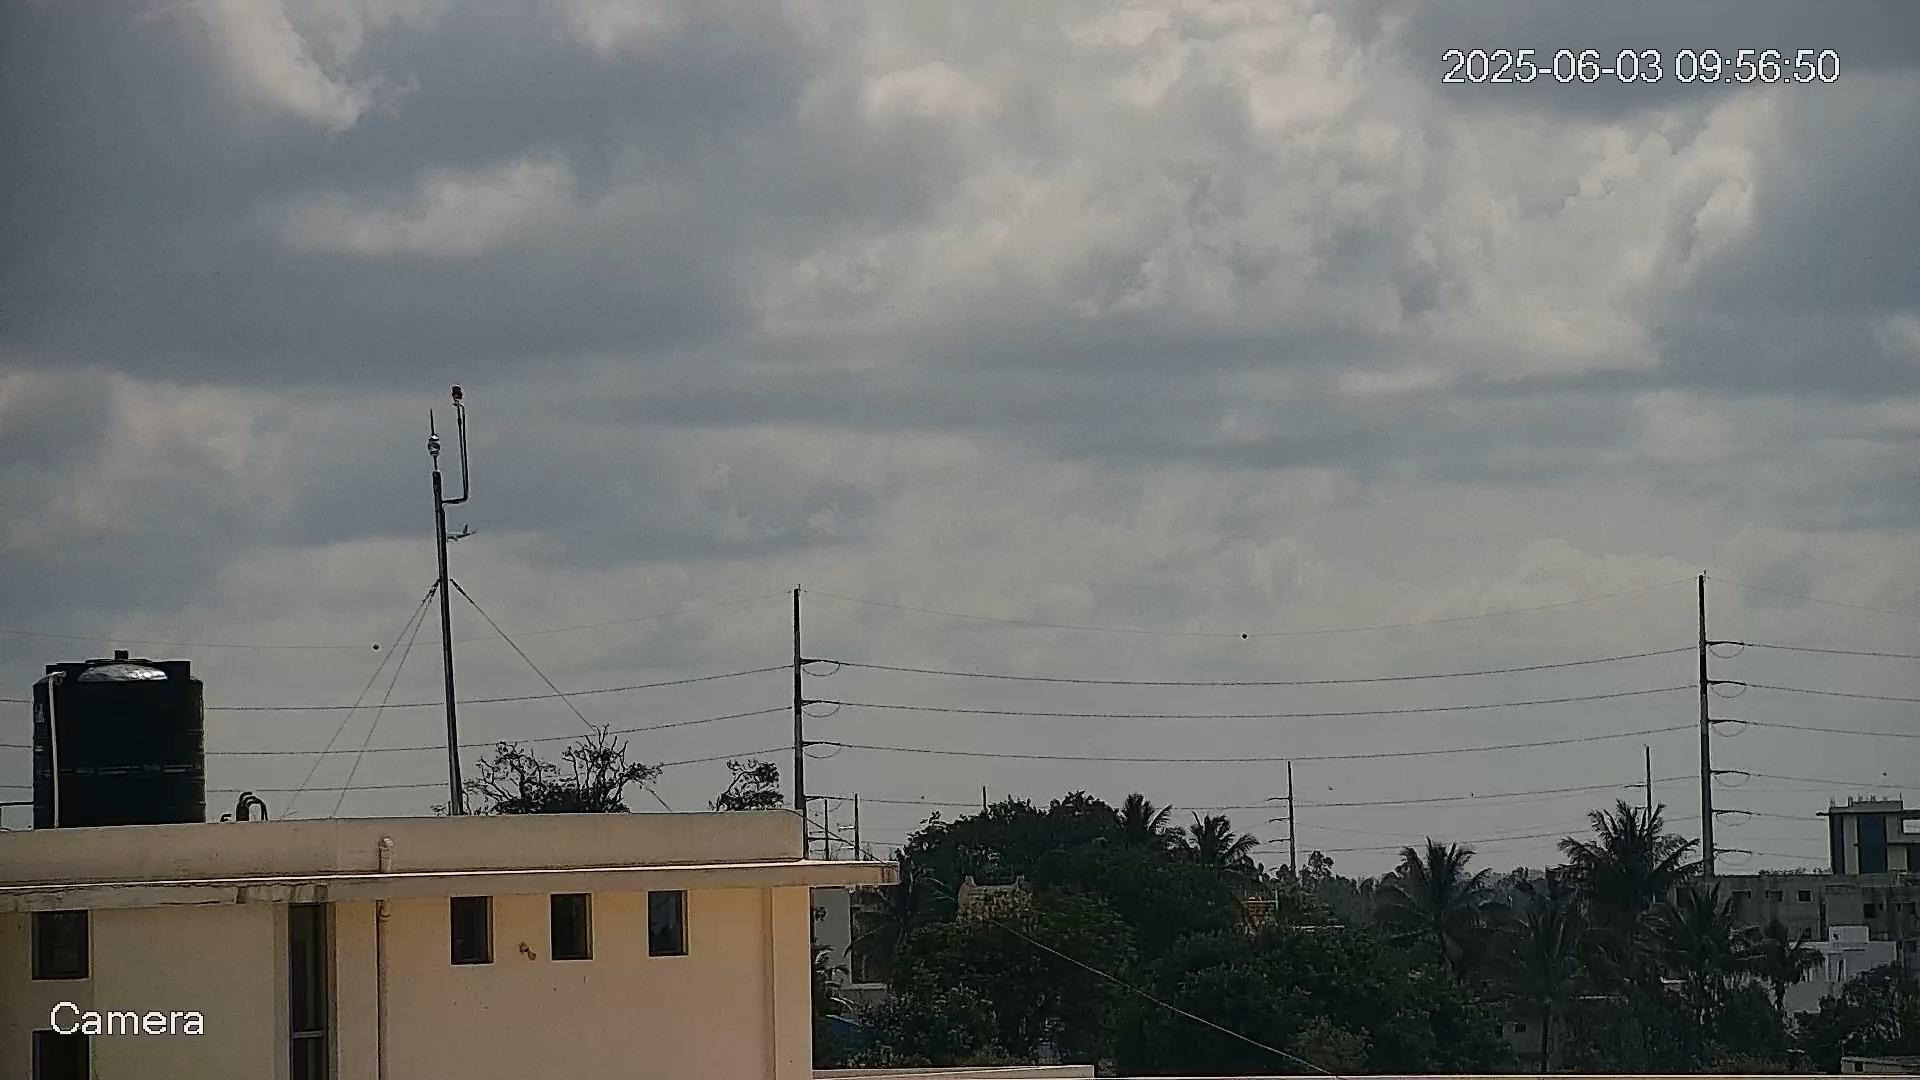Aircraft: (446, 524, 475, 543)
